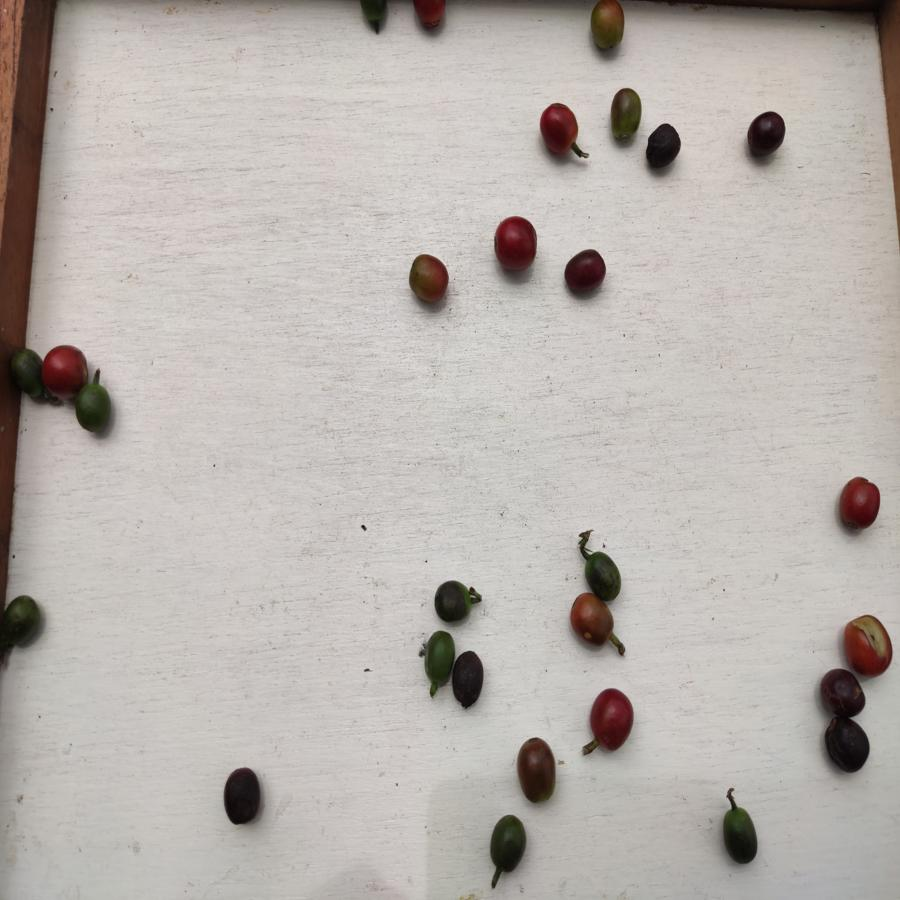Inmaduro: (489, 811, 529, 875), (433, 579, 485, 627), (722, 802, 760, 864), (3, 593, 43, 651), (422, 631, 453, 694), (585, 550, 624, 600), (74, 384, 114, 431), (13, 347, 39, 410)
Maduro: (587, 688, 635, 755), (843, 614, 895, 674), (492, 215, 540, 274), (835, 477, 883, 532), (537, 100, 582, 158), (38, 344, 89, 395)
Pinton: (570, 593, 616, 647), (409, 251, 450, 308), (588, 1, 624, 53), (610, 88, 641, 143)
Sobremaduro: (822, 717, 872, 776), (517, 736, 560, 803), (220, 768, 264, 826), (820, 670, 867, 717), (564, 248, 607, 294), (745, 110, 786, 158), (451, 651, 485, 708), (643, 123, 683, 171)
